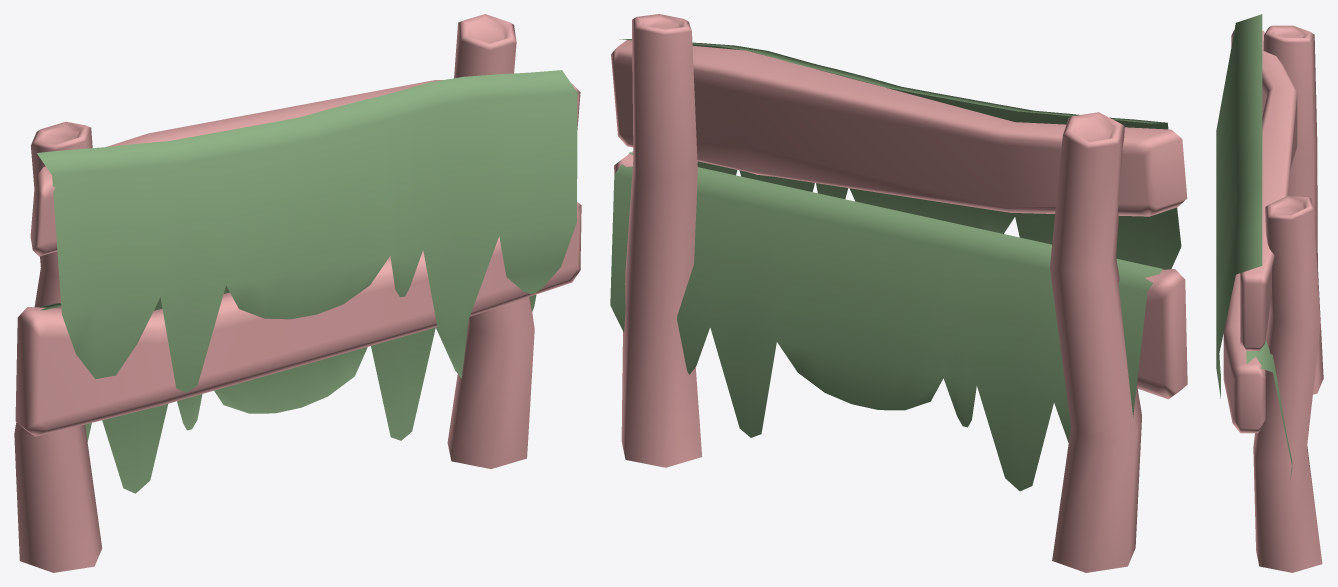
The model's file is Fence_2.fbx.
3 renders of one model, left to right at view 1: azimuth 30°, elevation 25°; view 2: azimuth 150°, elevation 25°; view 3: azimuth 270°, elevation 25°, orthographic. The views are drawn at different scales.
Parts seen in each view (by area): view 1: Fence_2; view 2: Fence_2; view 3: Fence_2.
Part boxes in pixels (left/top/right/bottom): Fence_2: left=14, top=14, right=581, bottom=572; Fence_2: left=610, top=14, right=1187, bottom=572; Fence_2: left=1216, top=14, right=1323, bottom=572.
Size of the model in its own units: 127 by 92.63 by 25.38.
